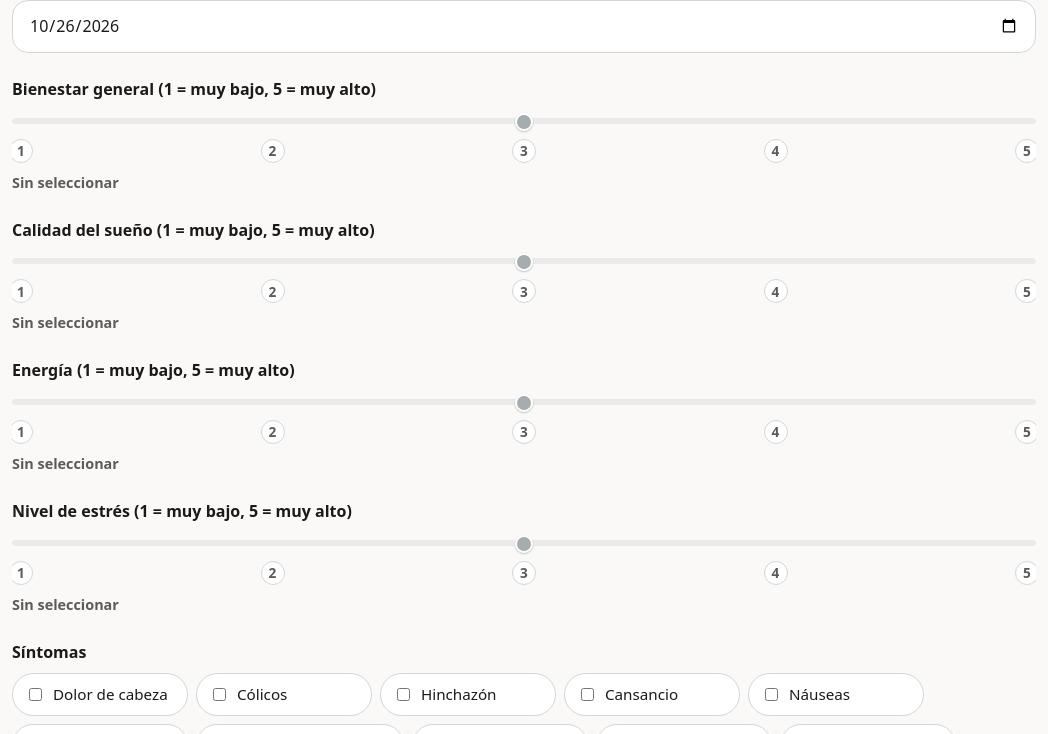
Test: CheckInForm › blocks the submit while a metric is missing
Set the slider named "Bienestar general" to "4" at (776, 121), box 12,111 -> 1036,131
(page scrolled)
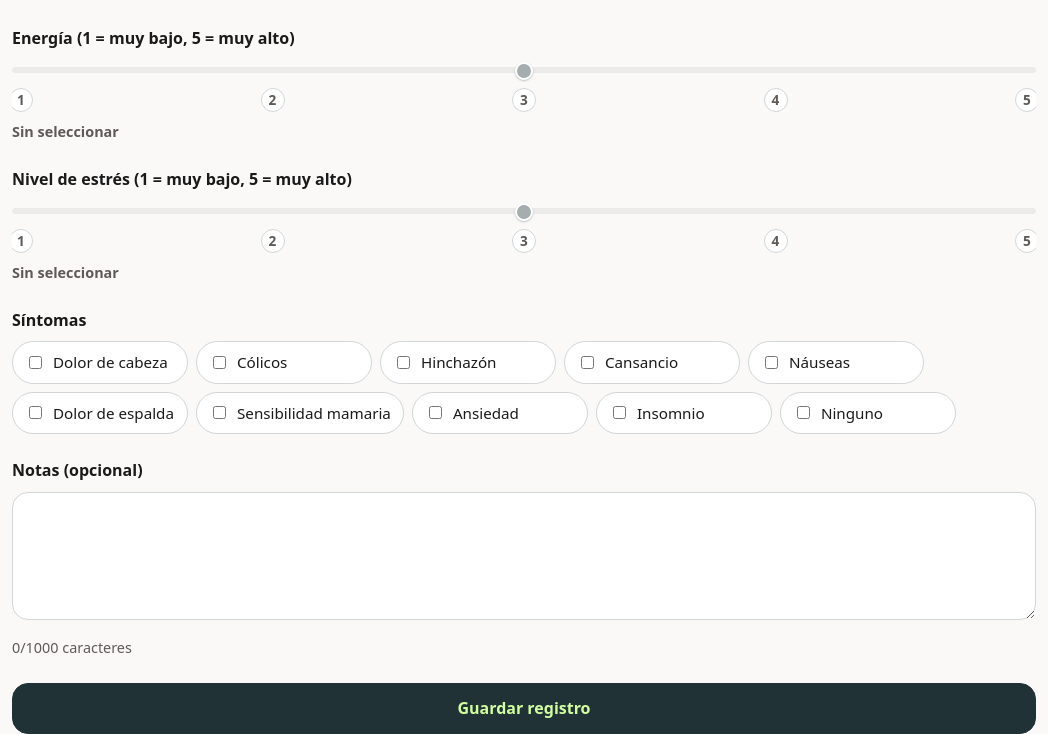
Click the button "Guardar registro" at (524, 708), box 12,683 -> 1036,733
(page scrolled)
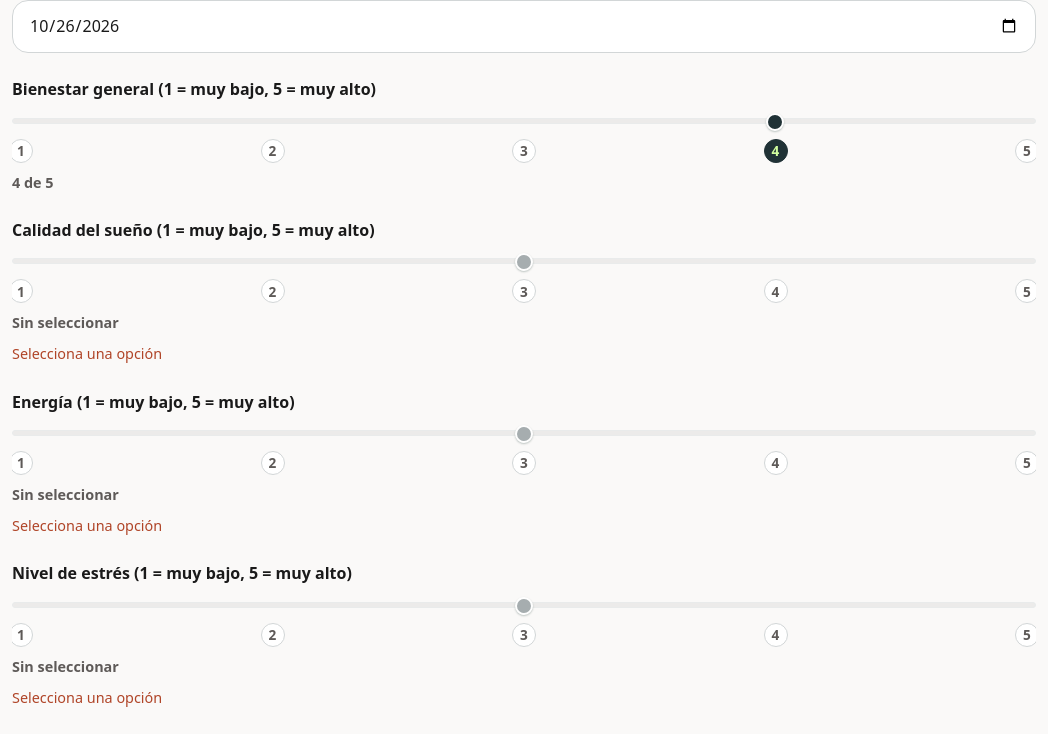
Now the text "Selecciona una opción" below "Calidad del sueño" is shown, box 12,344 -> 162,364
Now the text "Selecciona una opción" below "Nivel de estrés" is shown, box 12,688 -> 162,707
